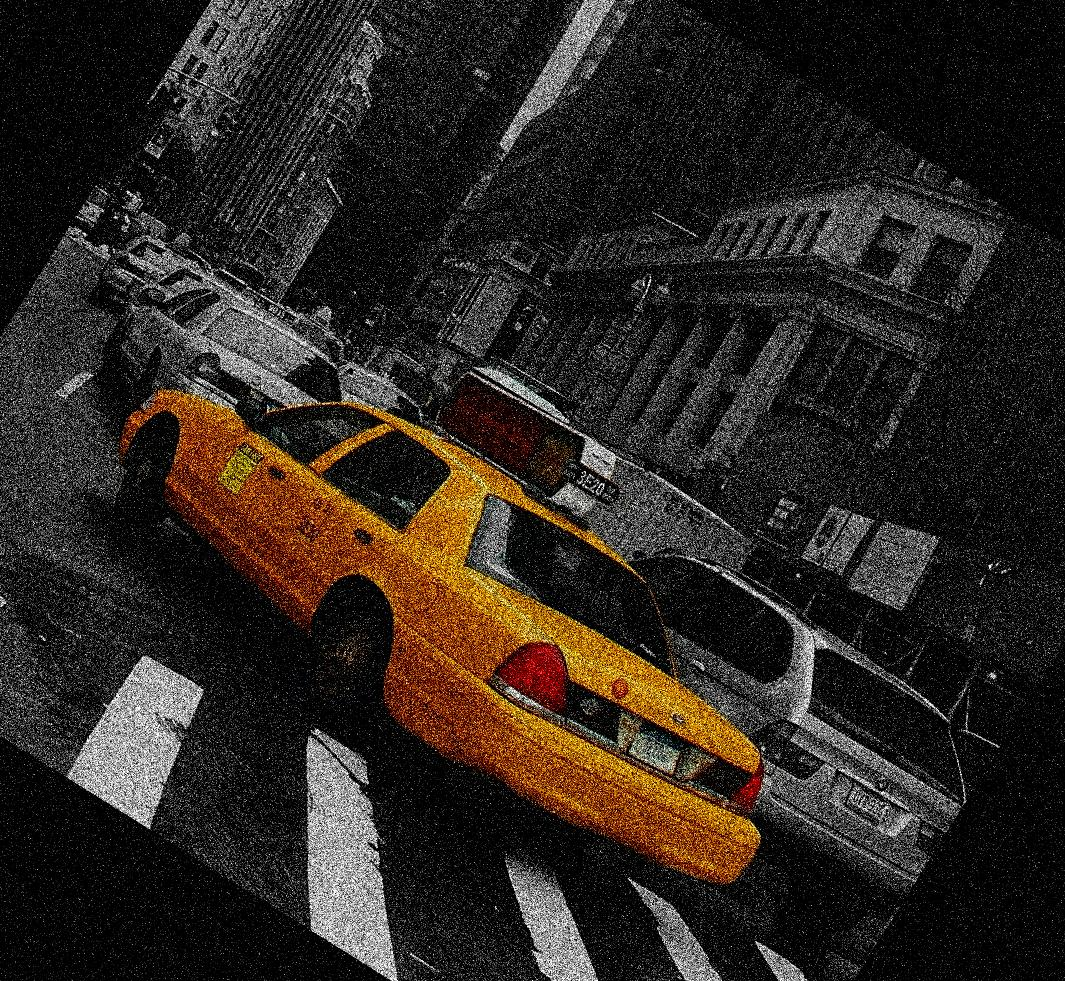taxi: (102, 338, 769, 889)
